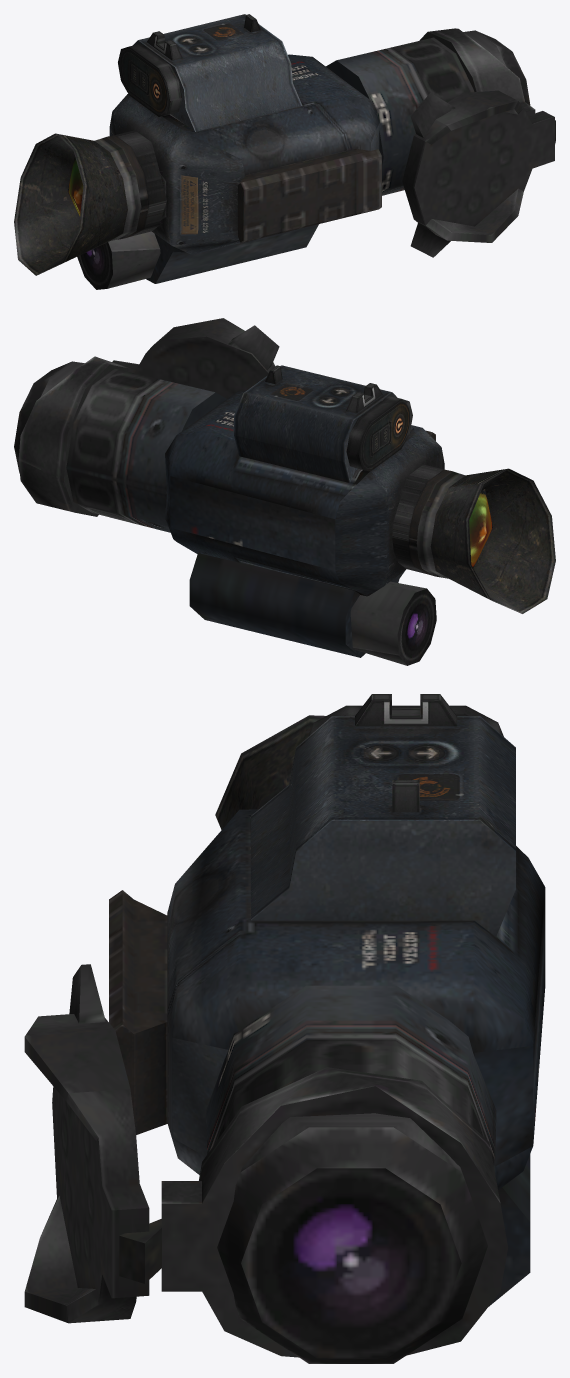
The model's file is t6_attach_optic_dualband_world_LOD0.obj.
The picture shows the model from 3 angles, top to bottom: view 1: azimuth 30°, elevation 25°; view 2: azimuth 150°, elevation 25°; view 3: azimuth 270°, elevation 25°; orthographic projection. The views are drawn at different scales.
Parts seen in each view (by area): view 1: mtl_t6_attach_optic_dualband_camo1, mtl_t6_attach_optic_dualband, mtl_t6_attach_optic_dualband_camo2; view 2: mtl_t6_attach_optic_dualband_camo1, mtl_t6_attach_optic_dualband, mtl_t6_attach_optic_dualband_camo2; view 3: mtl_t6_attach_optic_dualband_camo1, mtl_t6_attach_optic_dualband, mtl_t6_attach_optic_dualband_camo2.
Part boxes in pixels (<box>): mtl_t6_attach_optic_dualband_camo1: <box>109,14,474,283</box>; mtl_t6_attach_optic_dualband: <box>14,14,555,289</box>; mtl_t6_attach_optic_dualband_camo2: <box>94,30,530,288</box>; mtl_t6_attach_optic_dualband_camo1: <box>66,365,444,657</box>; mtl_t6_attach_optic_dualband: <box>18,318,555,665</box>; mtl_t6_attach_optic_dualband_camo2: <box>14,361,464,665</box>; mtl_t6_attach_optic_dualband_camo1: <box>167,716,545,1306</box>; mtl_t6_attach_optic_dualband: <box>24,694,508,1358</box>; mtl_t6_attach_optic_dualband_camo2: <box>109,705,503,1363</box>.
Bounding box in the file's own units: 16.12 × 7.86 × 7.59.
